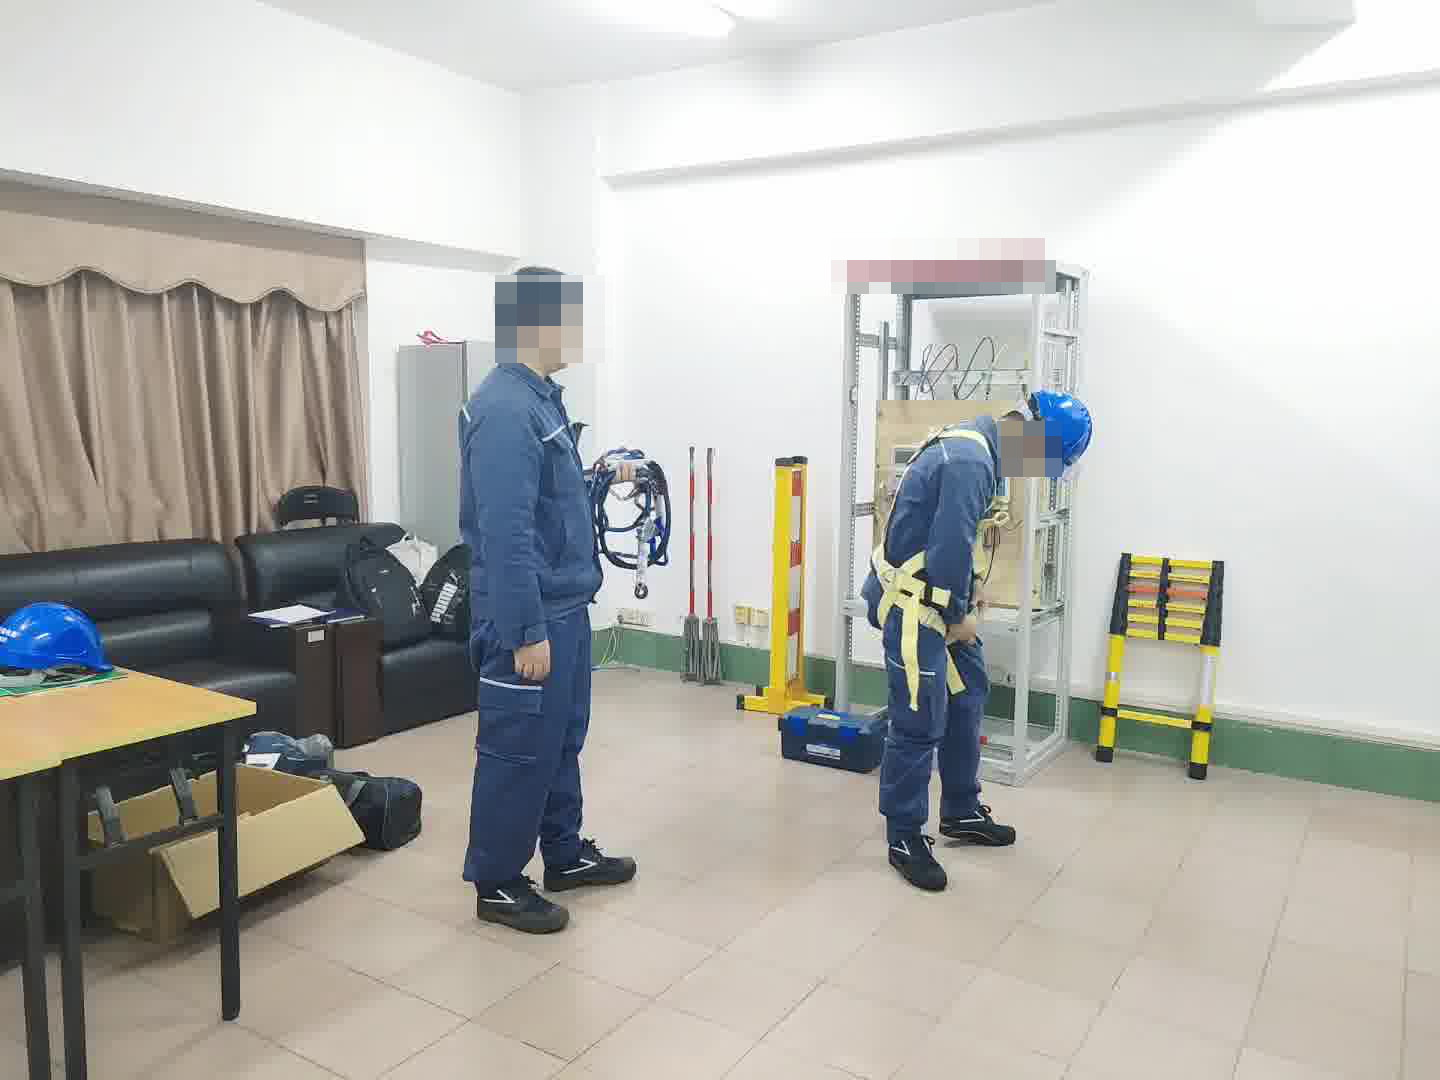downsuit: (465, 632, 596, 878), (880, 621, 991, 827)
halt: (1019, 388, 1094, 481)
hand: (509, 637, 553, 679), (947, 607, 989, 642)
inear: (999, 417, 1052, 458)
noear: (517, 314, 556, 362)
person: (453, 260, 628, 927), (868, 377, 1088, 885)
safebelt: (850, 420, 1017, 714)
unhalt: (494, 264, 587, 371)
upsuit: (460, 361, 595, 601), (864, 411, 1010, 621)
